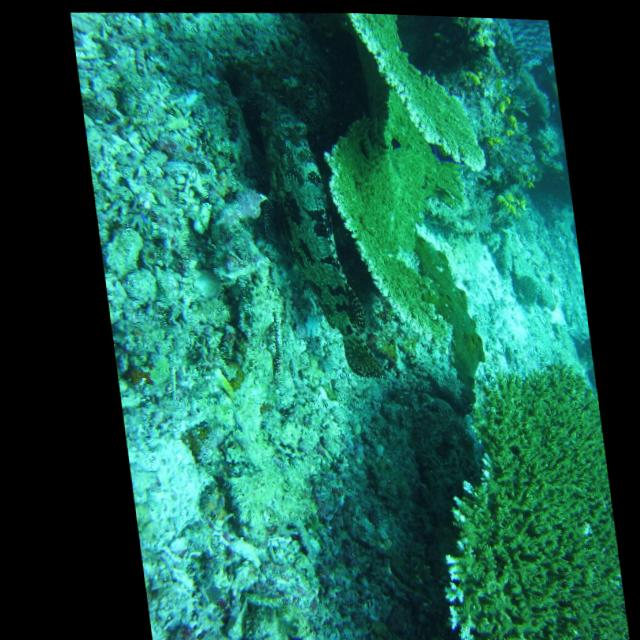Groupers: (239, 89, 390, 385)
